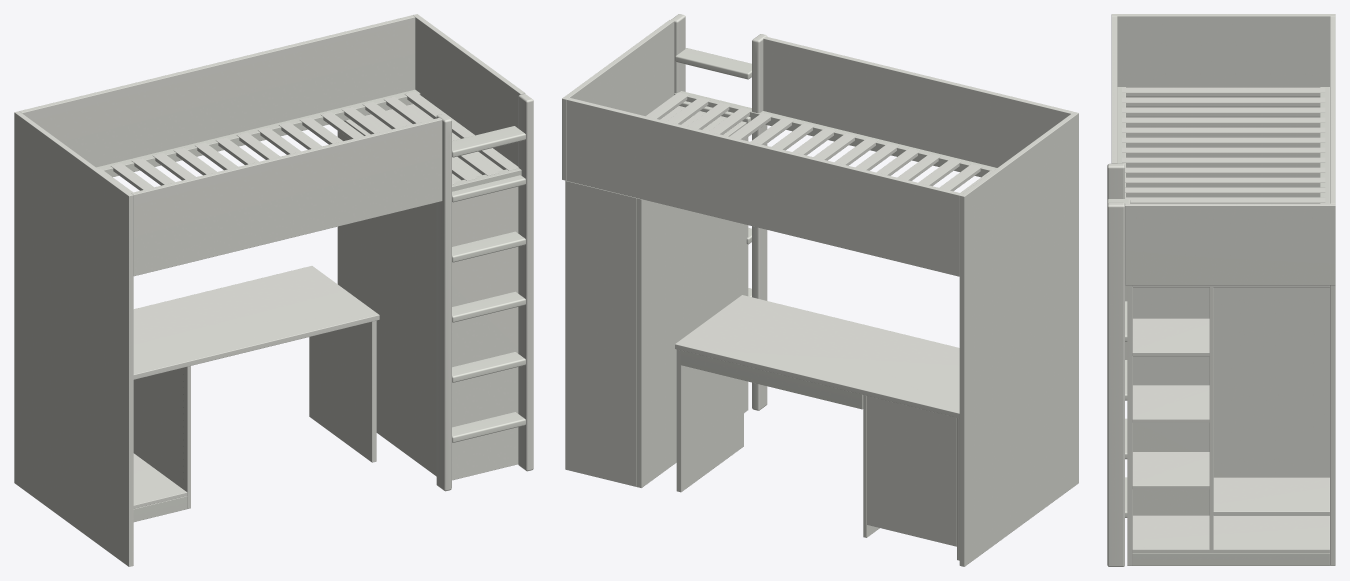
The model's file is loft_bed.glb.
3 renders of one model, left to right at view 1: azimuth 30°, elevation 25°; view 2: azimuth 150°, elevation 25°; view 3: azimuth 270°, elevation 25°, orthographic. The views are drawn at different scales.
Parts seen in each view (by area): view 1: Left_full_height_end_panel, Rear_solid_guard_panel, Front_solid_guard_panel, Cabinet_back_tall_support, Desk_top_148x60cm, Cabinet_front_behind_ladder, Right_upper_end_guard, Desk_right_end_support, Desk_pedestal_right_side, Ladder_right_upright, Ladder_left_upright, Underbed_rear_support_rail (+12 smaller); view 2: Left_full_height_end_panel, Rear_solid_guard_panel, Cabinet_rear_side, Front_solid_guard_panel, Cabinet_back_tall_support, Desk_top_148x60cm, Desk_pedestal_back, Desk_right_end_support, Right_upper_end_guard, Desk_rear_apron, Ladder_left_upright, Underbed_front_support_rail (+3 smaller); view 3: Cabinet_back_tall_support, Left_full_height_end_panel, Right_upper_end_guard, Cabinet_bottom_shelf, Ladder_right_upright, Wide_bay_lower_shelf, Narrow_bay_shelf_2, Narrow_bay_shelf_1, Narrow_bay_shelf_0, Cabinet_lower_plinth, Bed_base_slat_00, Bed_base_slat_01 (+19 smaller).
Boxes of the visible parts, left/top/right/bottom form: Left_full_height_end_panel: left=14, top=111, right=133, bottom=566; Rear_solid_guard_panel: left=19, top=15, right=415, bottom=167; Front_solid_guard_panel: left=131, top=118, right=442, bottom=276; Cabinet_back_tall_support: left=337, top=119, right=436, bottom=476; Desk_top_148x60cm: left=133, top=266, right=379, bottom=379; Cabinet_front_behind_ladder: left=452, top=186, right=518, bottom=480; Right_upper_end_guard: left=413, top=14, right=525, bottom=166; Desk_right_end_support: left=309, top=320, right=376, bottom=462; Desk_pedestal_right_side: left=133, top=366, right=190, bottom=508; Ladder_right_upright: left=518, top=94, right=533, bottom=471; Ladder_left_upright: left=436, top=114, right=451, bottom=491; Underbed_rear_support_rail: left=96, top=89, right=420, bottom=176; Left_full_height_end_panel: left=959, top=112, right=1078, bottom=566; Rear_solid_guard_panel: left=567, top=98, right=961, bottom=276; Cabinet_rear_side: left=565, top=180, right=636, bottom=486; Front_solid_guard_panel: left=763, top=36, right=1073, bottom=167; Cabinet_back_tall_support: left=637, top=121, right=748, bottom=487; Desk_top_148x60cm: left=675, top=295, right=959, bottom=418; Desk_pedestal_back: left=867, top=396, right=956, bottom=546; Desk_right_end_support: left=676, top=349, right=743, bottom=492; Right_upper_end_guard: left=562, top=20, right=674, bottom=180; Desk_rear_apron: left=680, top=350, right=863, bottom=409; Ladder_left_upright: left=752, top=34, right=767, bottom=410; Underbed_front_support_rail: left=674, top=91, right=996, bottom=177; Cabinet_back_tall_support: left=1132, top=287, right=1329, bottom=515; Left_full_height_end_panel: left=1111, top=14, right=1335, bottom=359; Right_upper_end_guard: left=1125, top=203, right=1335, bottom=285; Cabinet_bottom_shelf: left=1132, top=515, right=1329, bottom=552; Ladder_right_upright: left=1107, top=202, right=1124, bottom=566; Wide_bay_lower_shelf: left=1213, top=477, right=1329, bottom=515; Narrow_bay_shelf_2: left=1132, top=318, right=1209, bottom=356; Narrow_bay_shelf_1: left=1132, top=385, right=1209, bottom=422; Narrow_bay_shelf_0: left=1132, top=452, right=1209, bottom=489; Cabinet_lower_plinth: left=1132, top=553, right=1329, bottom=565; Bed_base_slat_00: left=1122, top=87, right=1325, bottom=96; Bed_base_slat_01: left=1122, top=97, right=1325, bottom=106.
Size of the model in its own units: 2.07 by 1.82 by 1.04.
Materials: 5 (3 with a texture image).
